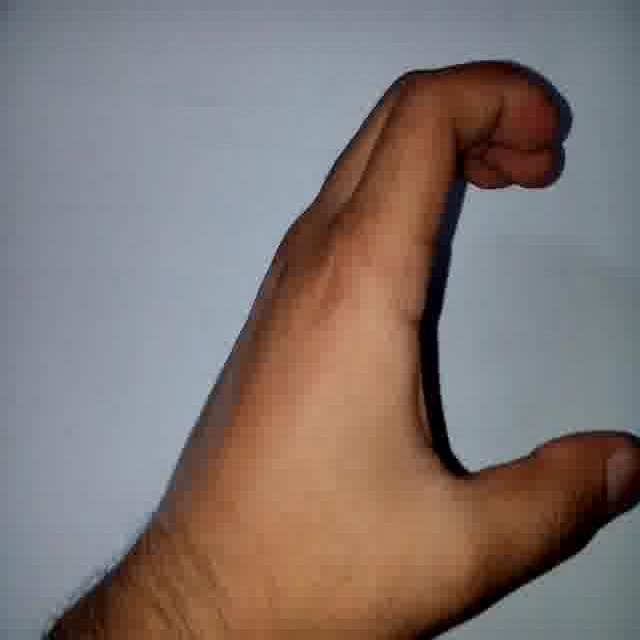Alphabet-C: (162, 53, 640, 620)
